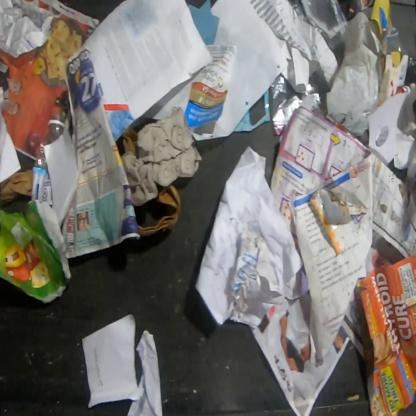cardboard: (0, 199, 73, 306), (368, 81, 415, 184), (309, 187, 370, 257), (137, 184, 183, 238), (121, 127, 139, 159)
rigid_plastic: (30, 111, 68, 204), (381, 26, 407, 56)
soft_plastic: (325, 11, 380, 137), (268, 72, 324, 137), (292, 0, 348, 52)
